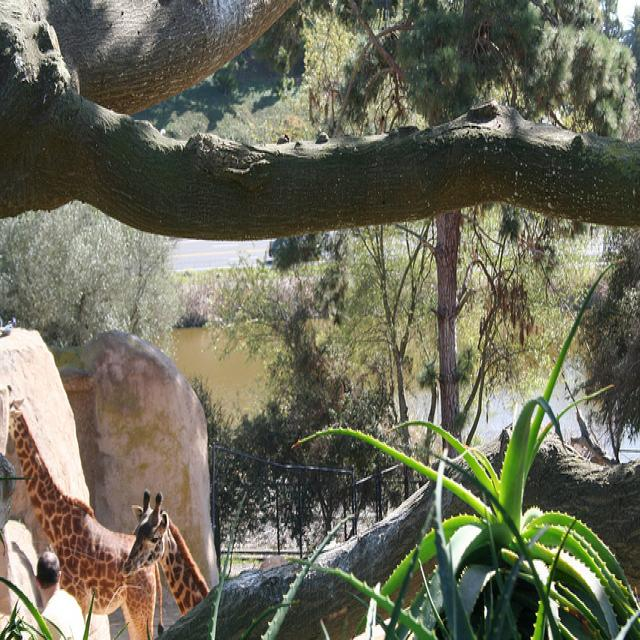Vehicle: (268, 238, 280, 264)
